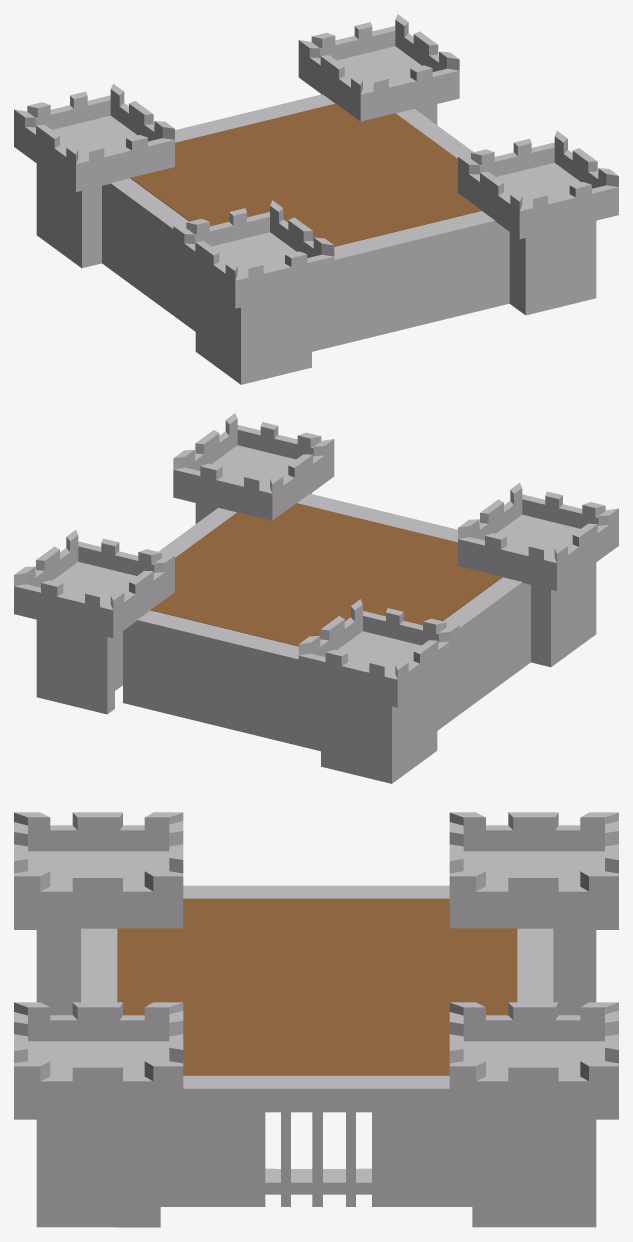
The model's file is Castle.fbx.
3 views of the same model, one above another, from view 1: azimuth 30°, elevation 25°; view 2: azimuth 150°, elevation 25°; view 3: azimuth 270°, elevation 25° (orthographic). The views are drawn at different scales.
Visible parts, largest first — view 1: pCube17; view 2: pCube17; view 3: pCube17.
Boxes of the visible parts, x1=… form: pCube17: x1=14, y1=14, x2=618, y2=384; pCube17: x1=14, y1=413, x2=618, y2=783; pCube17: x1=14, y1=812, x2=618, y2=1227.
Bounding box in the file's own units: 610 × 190 × 609.
